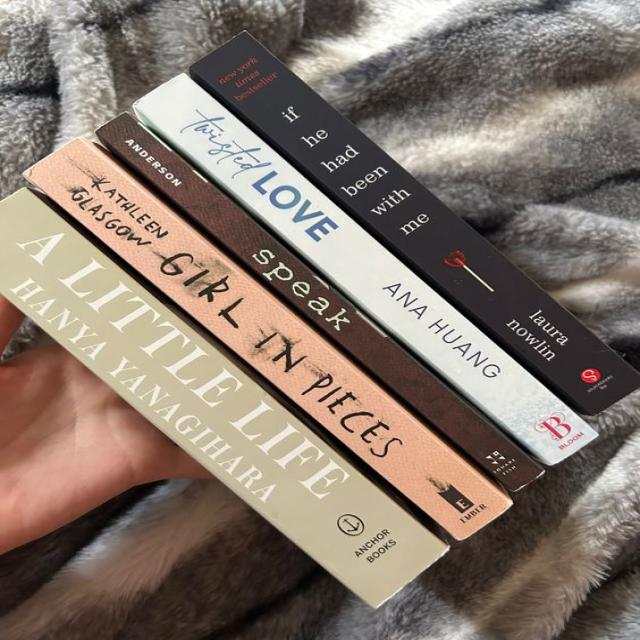book: (26, 140, 510, 540), (0, 189, 448, 607), (135, 74, 597, 464), (190, 33, 639, 415), (100, 113, 544, 489)
